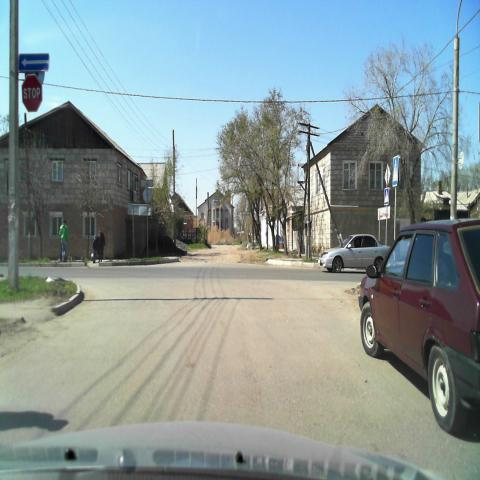2_5: (22, 74, 42, 113)
5_7_2: (19, 51, 49, 69)
